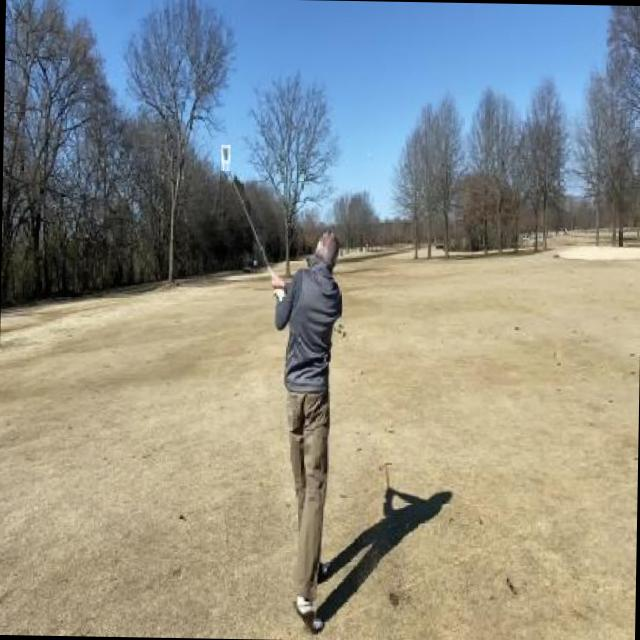club head: (221, 144, 230, 170)
